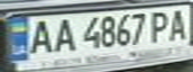4: (78, 13, 103, 51)
6: (115, 11, 136, 47)
7: (130, 10, 151, 45)
8: (97, 14, 118, 50)
A: (24, 17, 57, 55), (48, 16, 78, 53), (163, 6, 193, 42)
P: (148, 8, 175, 44)
